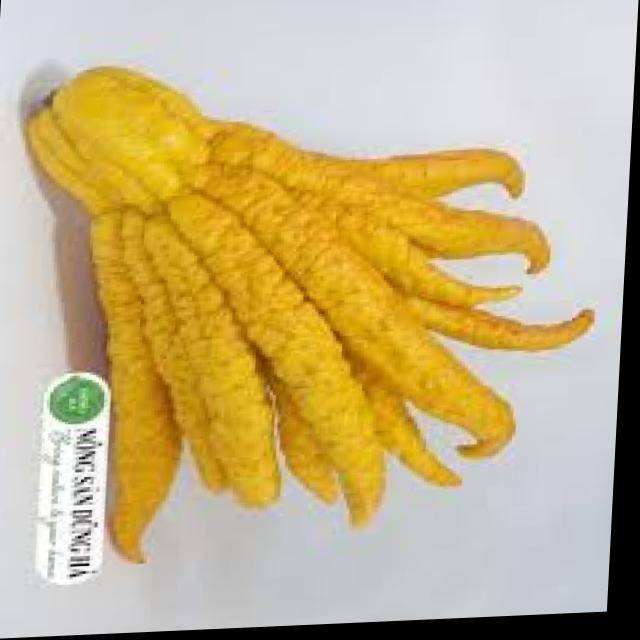PhatThu: (15, 45, 610, 576)
